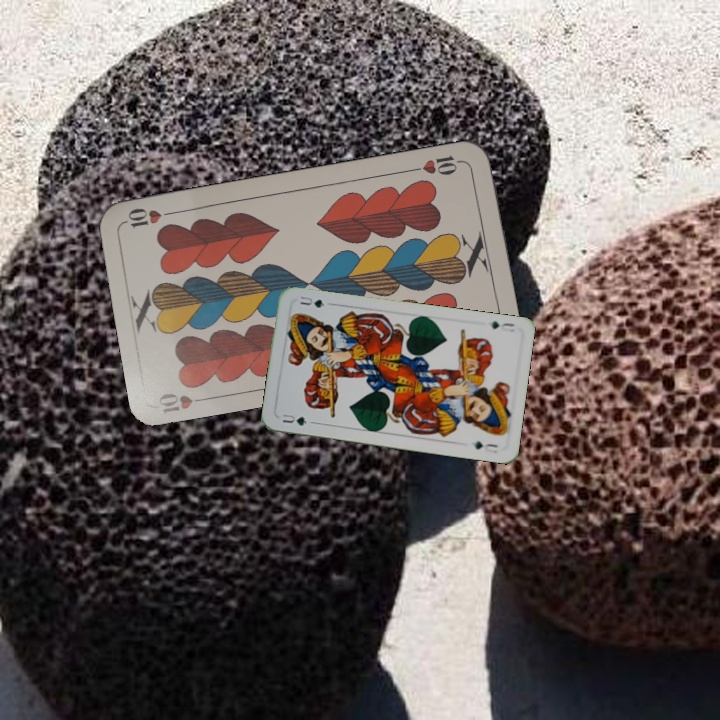GU: (278, 410, 310, 428), (487, 317, 517, 335)
H10: (407, 151, 466, 178), (154, 389, 213, 416)
